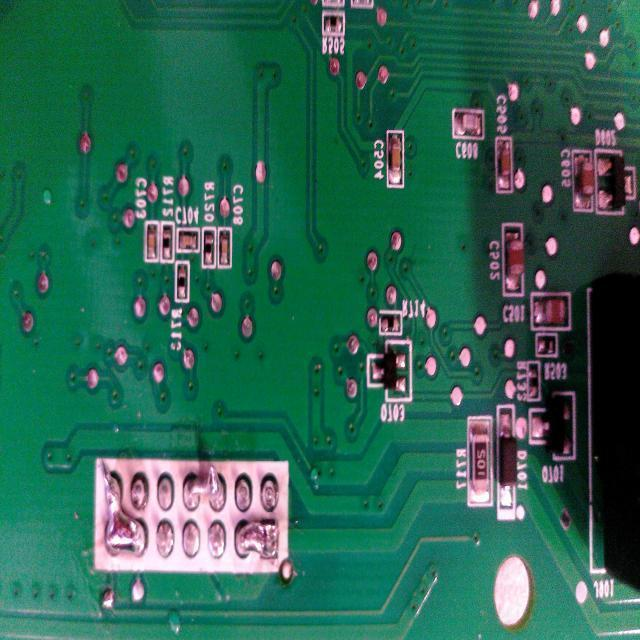Soldering shorted: (96, 458, 148, 557), (180, 458, 230, 517), (233, 512, 281, 566)
